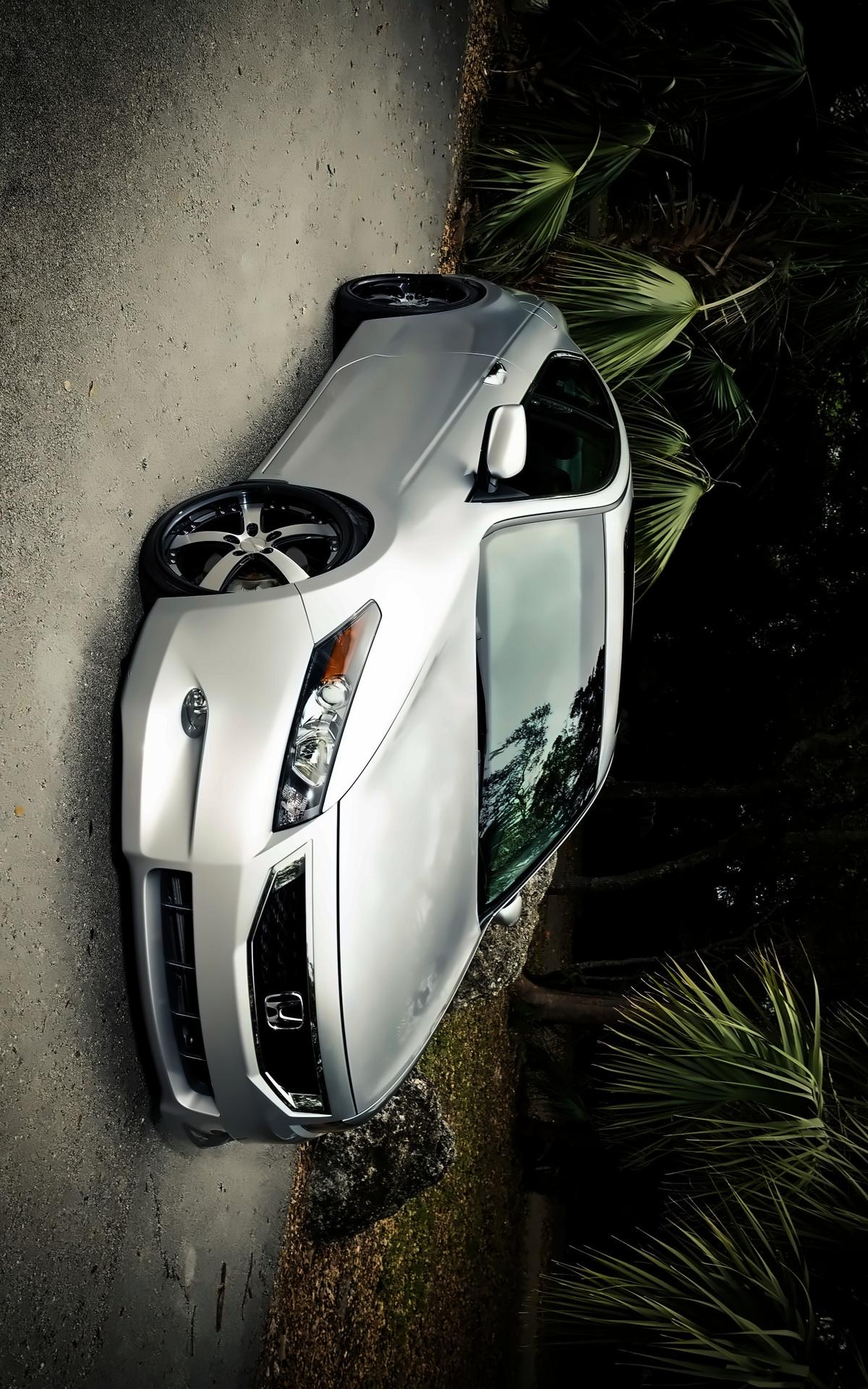Car hood: (331, 546, 485, 1123)
Driver-s door - -F-R-: (258, 347, 629, 503)
Fender - -F-R-: (249, 472, 482, 814)
Fender - -R-R-: (344, 284, 550, 363)
Front bumper: (102, 576, 314, 1160)
Headlight - -R-: (268, 592, 385, 836)
Side bumper - -R-: (235, 308, 369, 490)
Side mirror - -L-: (485, 887, 532, 943)
Side mirror - -R-: (466, 397, 536, 492)
